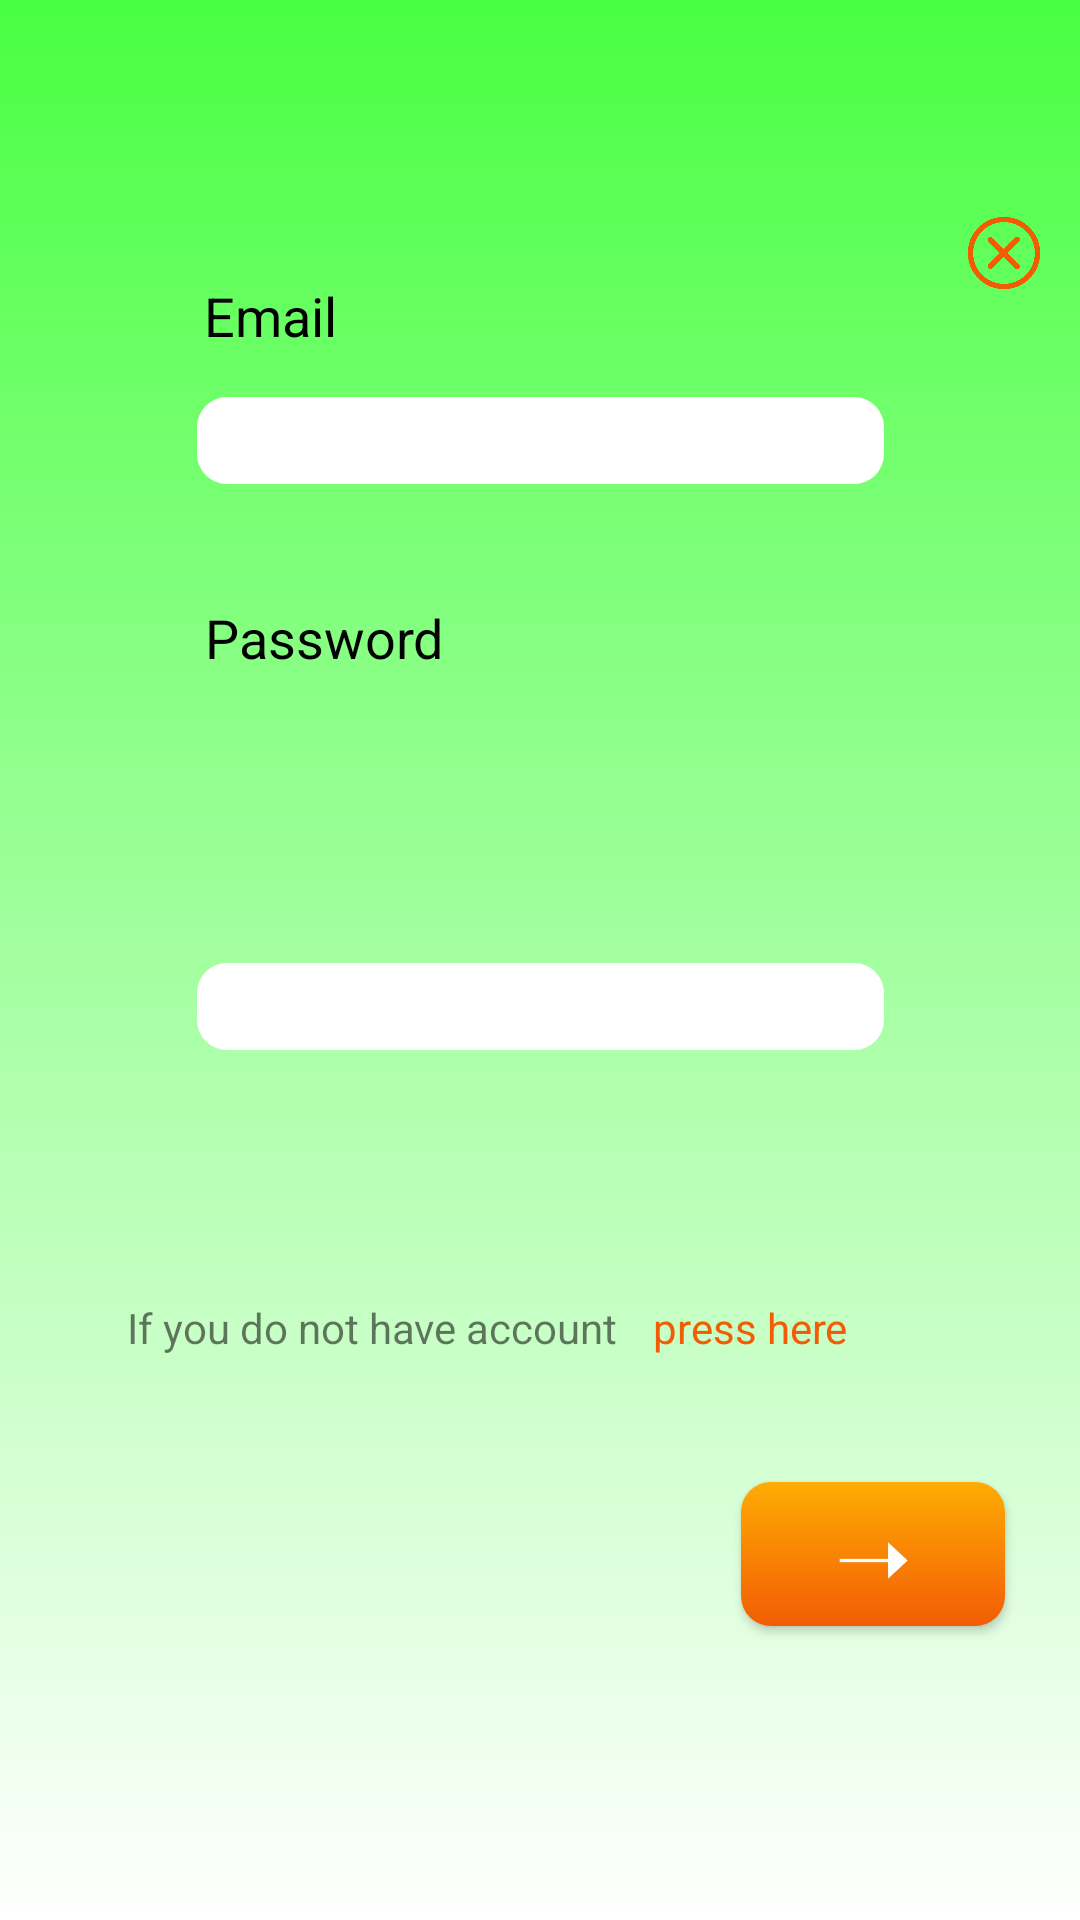

Where icons sit on this 1080w x 1920h app screen, as box=[x1, y1, x2, y2]:
close: box=[968, 217, 1040, 289]
